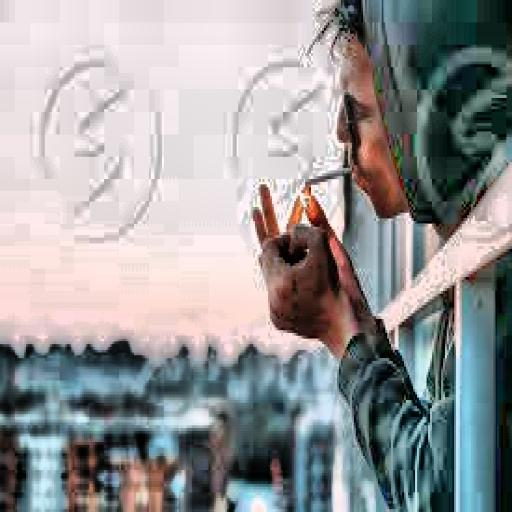fire: (281, 176, 311, 218)
